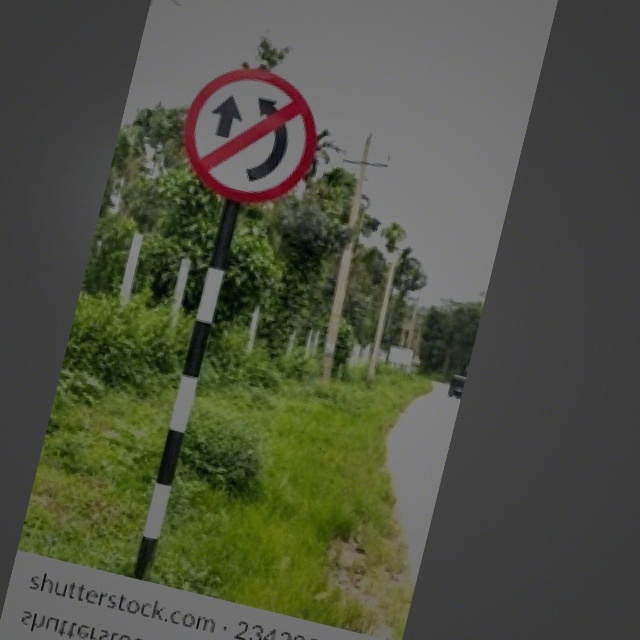Overtaking_Prohibited: (174, 55, 331, 216)
